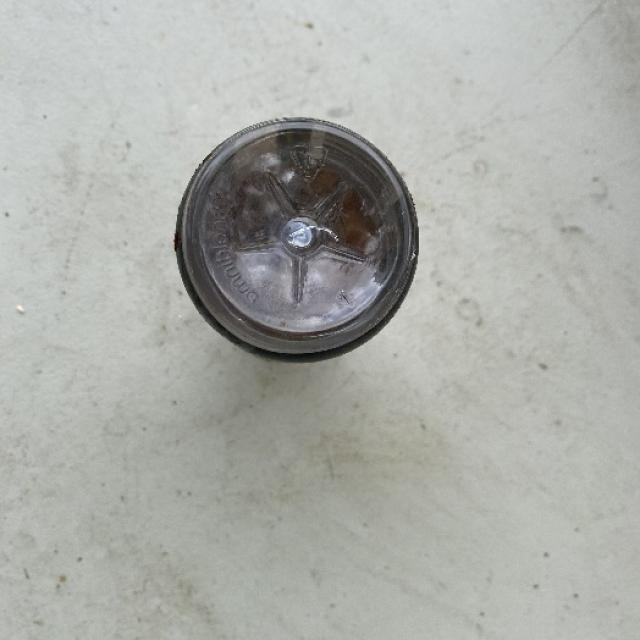plastic: (173, 115, 419, 356)
